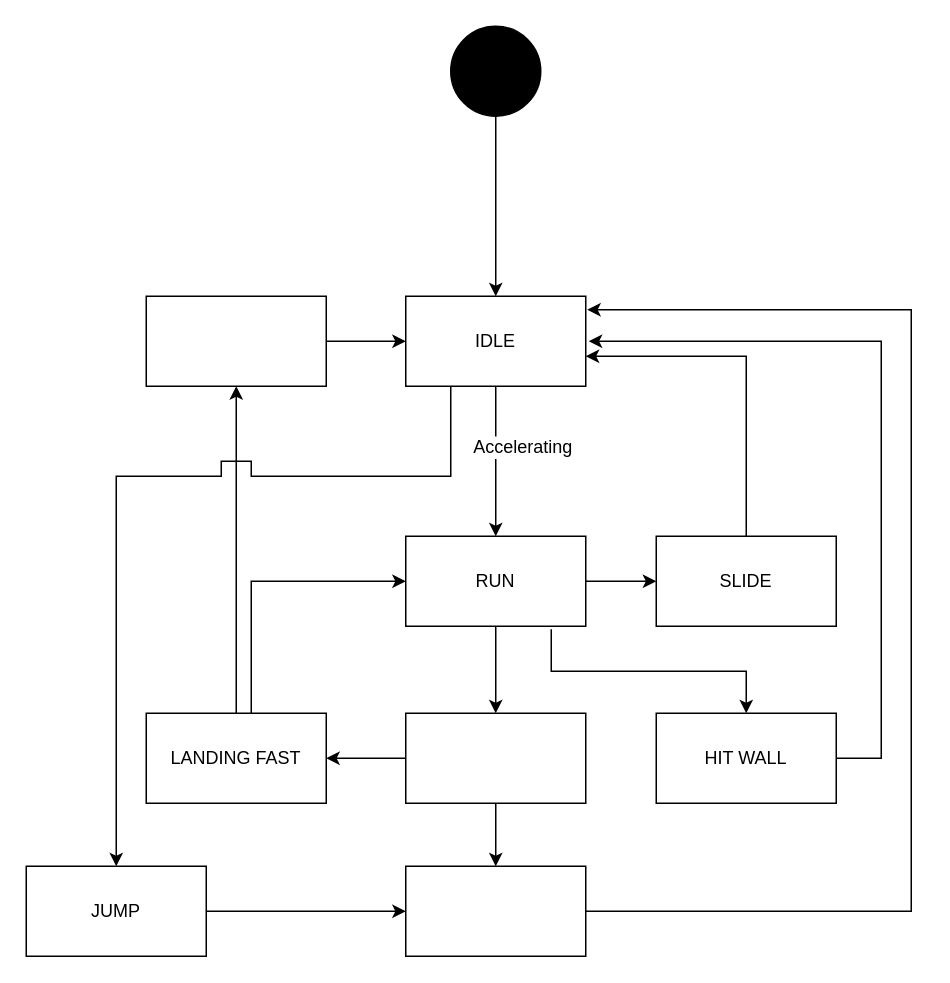
The diagram is 950 pixels wide and 983 high, and some of its shapes have lost their labels. The shapes that lost their labels are listed below. From the top down, each one's box as (x1, y1, x2, y2) in pixels, then its label:
(145, 295, 326, 386): SLOWING DOWN
(404, 712, 586, 803): RUN JUMP
(404, 865, 586, 956): CLIMB
